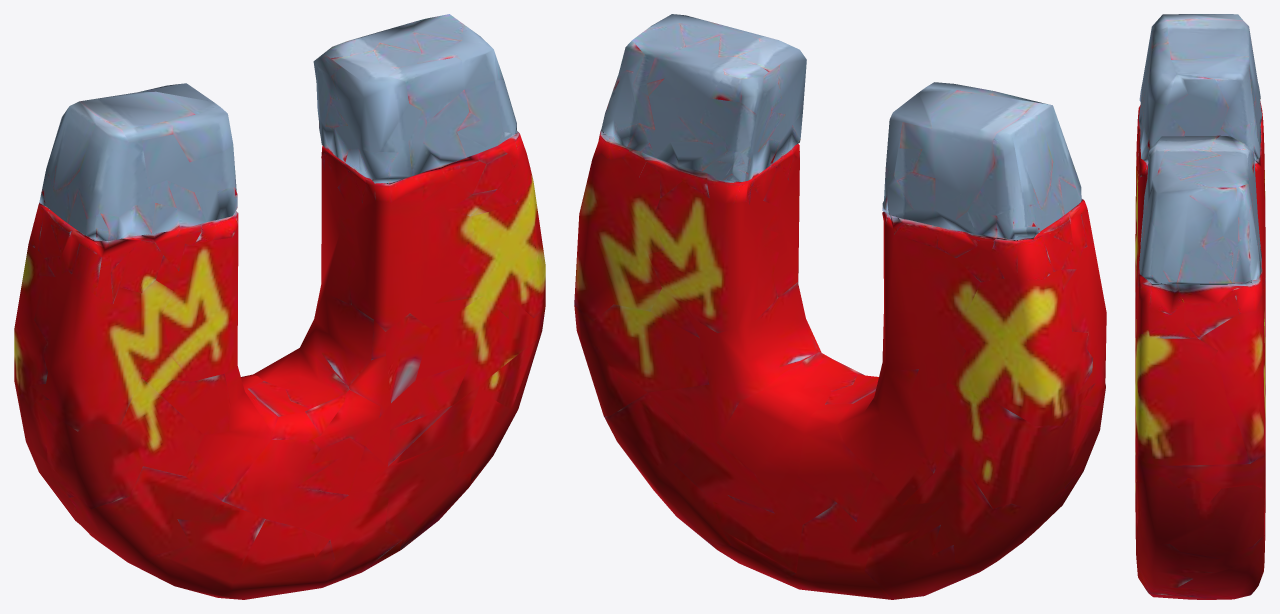
The model's file is magnet_meshy.glb.
3 views of the same model, side by side, from view 1: azimuth 30°, elevation 25°; view 2: azimuth 150°, elevation 25°; view 3: azimuth 270°, elevation 25° (orthographic). The views are drawn at different scales.
Bounding box in the file's own units: 1.74 × 1.73 × 0.4322.
1 material, 1 textured.
